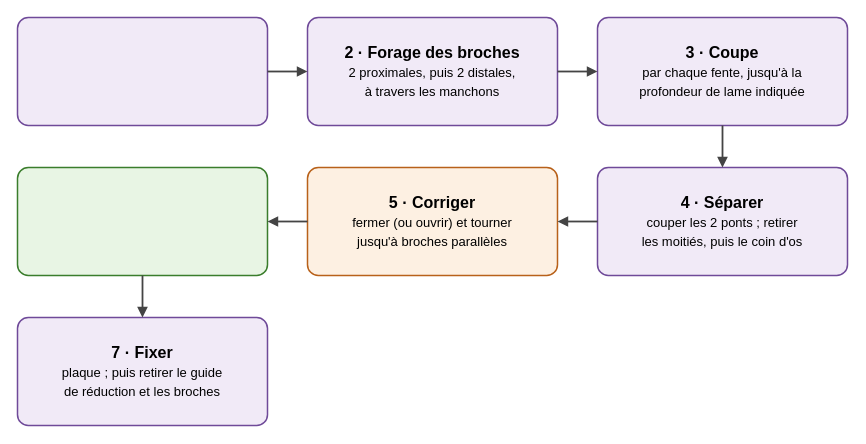
The diagram is 866 pixels wide and 444 high, and some of its shapes have lost their labels. Each missing label, with the box of its shape:
1 · Abord et pose le guide de coupe ne s'emboîte que dans une seule position: (16, 16, 268, 126)
6 · Guide de réduction l'enfiler sur les broches jusqu'au contact de l'os: (16, 166, 268, 276)
